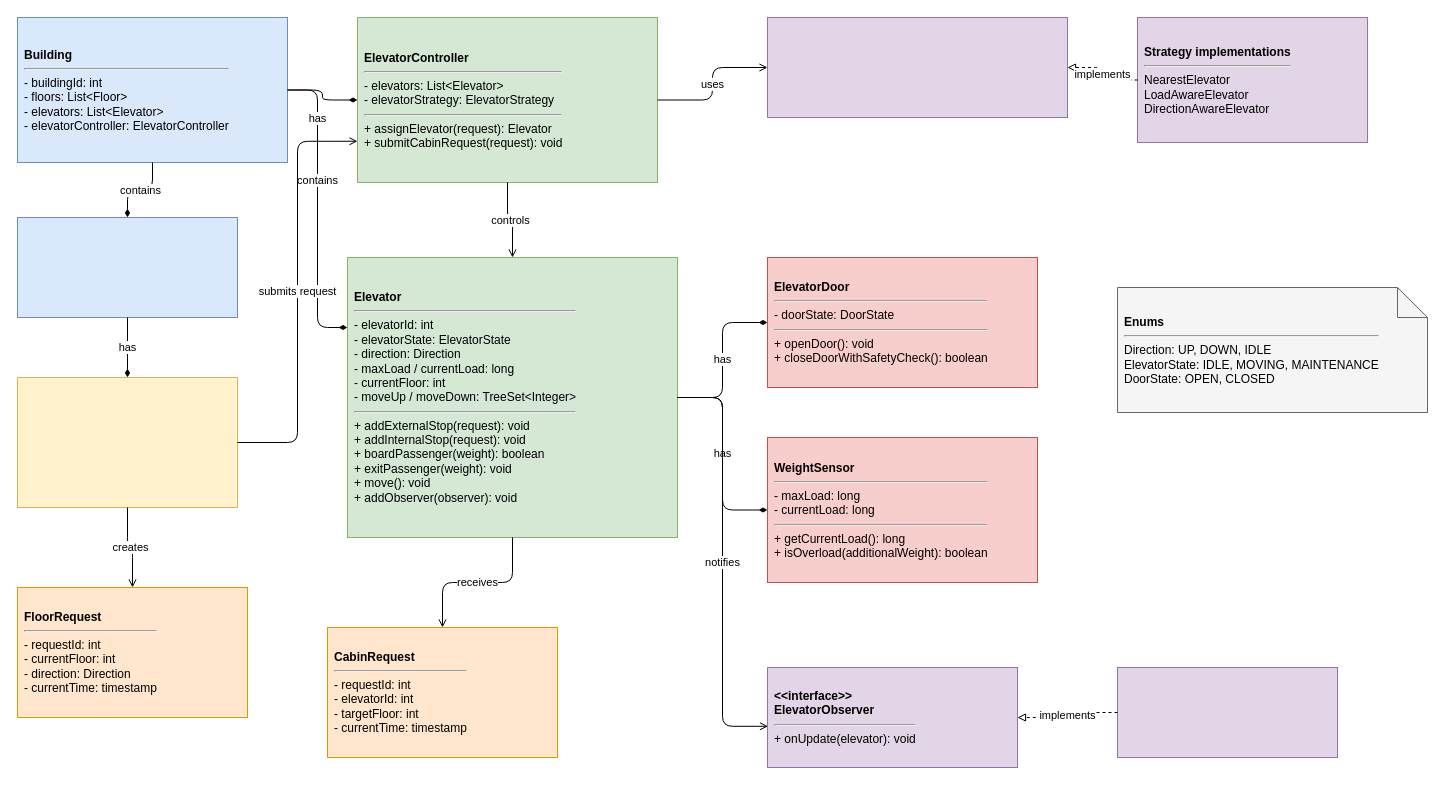
Some shapes in this 1445 by 785 pixel diagram are drawn without their labels. The centre of each missing label's shape, as x and y in pixels:
"<<interface>> ElevatorStrategy + chooseElevator(request, elevators): Elevator" goes at point 917,67.
"DisplayMonitor + onUpdate(elevator): void" goes at point 1227,712.
"Floor - floorId: int - floorPanel: FloorPanel" goes at point 127,267.
"FloorPanel - floorPanelId: int + requestUp(): void + requestDown(): void" goes at point 127,442.
